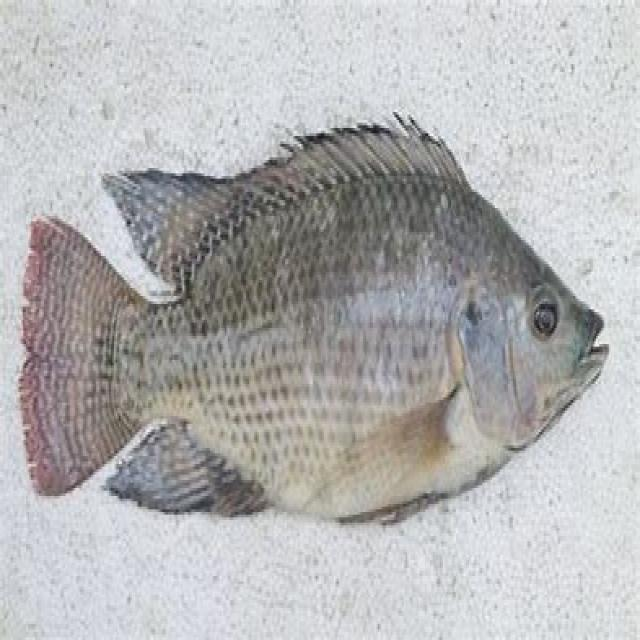Tilapia: (18, 127, 607, 531)
